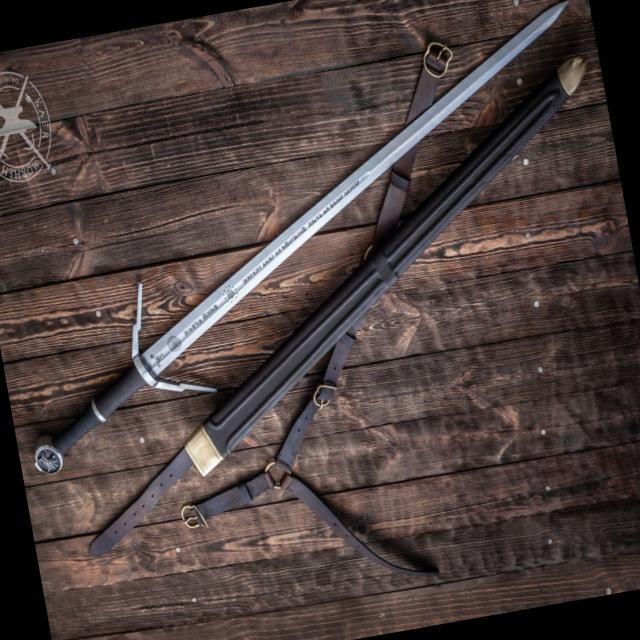Weapon: (0, 0, 639, 491)
